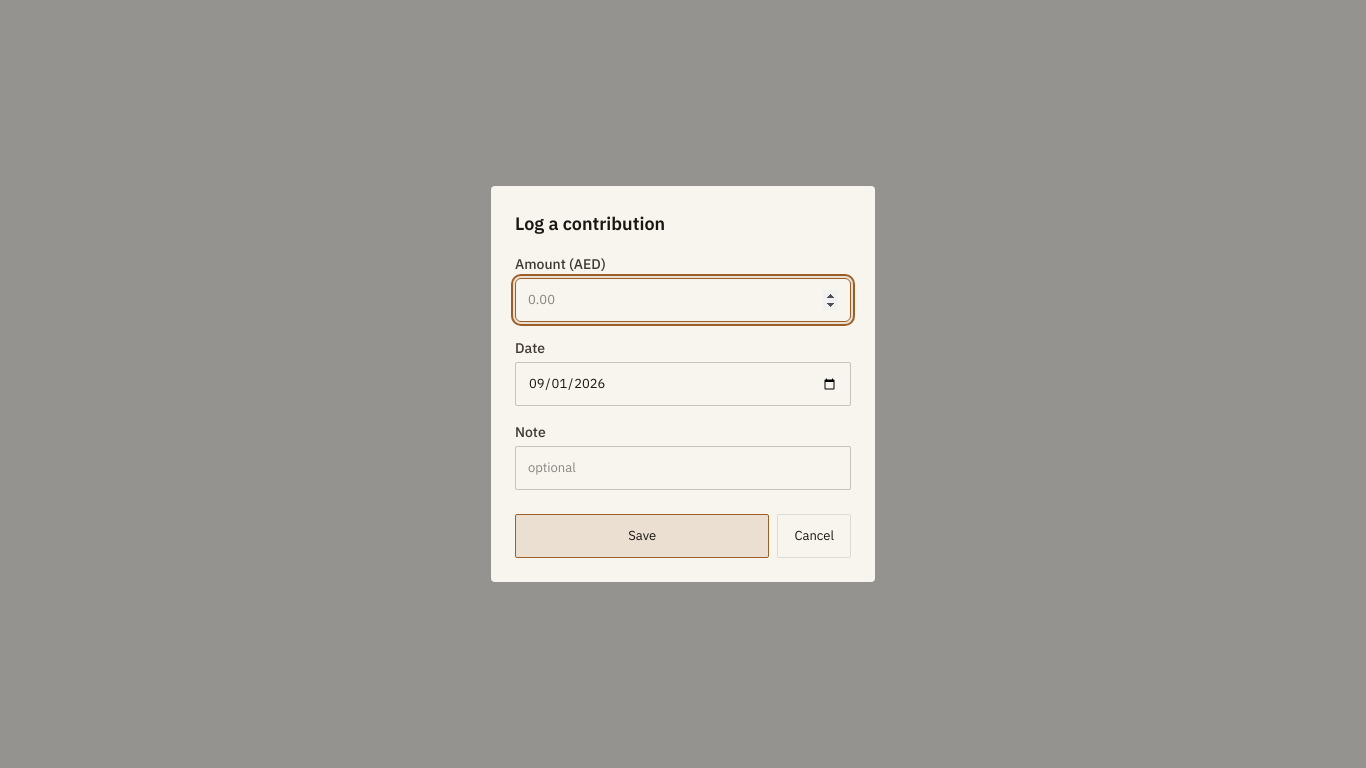
Scenario: ContributionForm action footer › submits once, preserves the payload and exact pending label, and blocks double-submit
The image size is (1366, 768).
In the number field labelled "Amount (AED)": (683, 300) left=515, top=278, right=851, bottom=322, type "25"
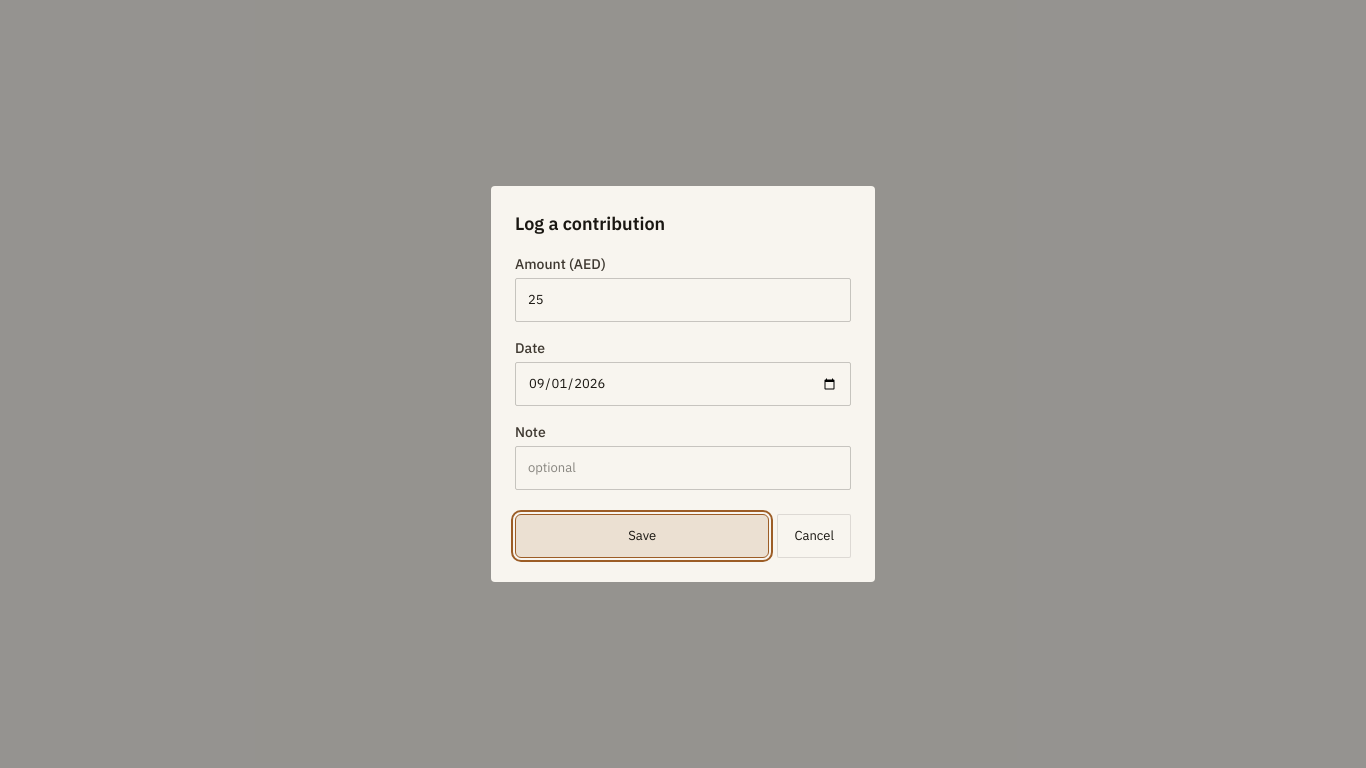
Press Enter
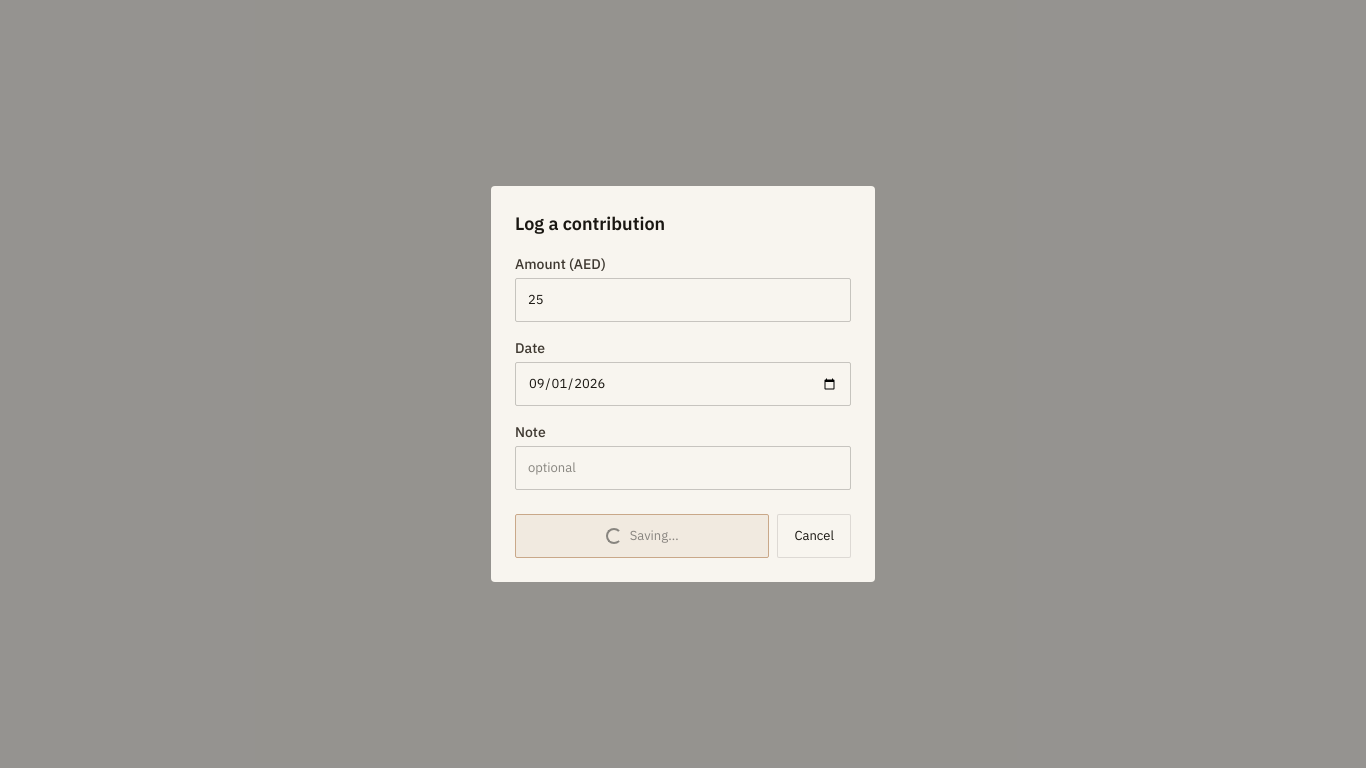
Check: the button "Saving…" is disabled
Click the button "Saving…": (642, 536) left=515, top=514, right=770, bottom=558
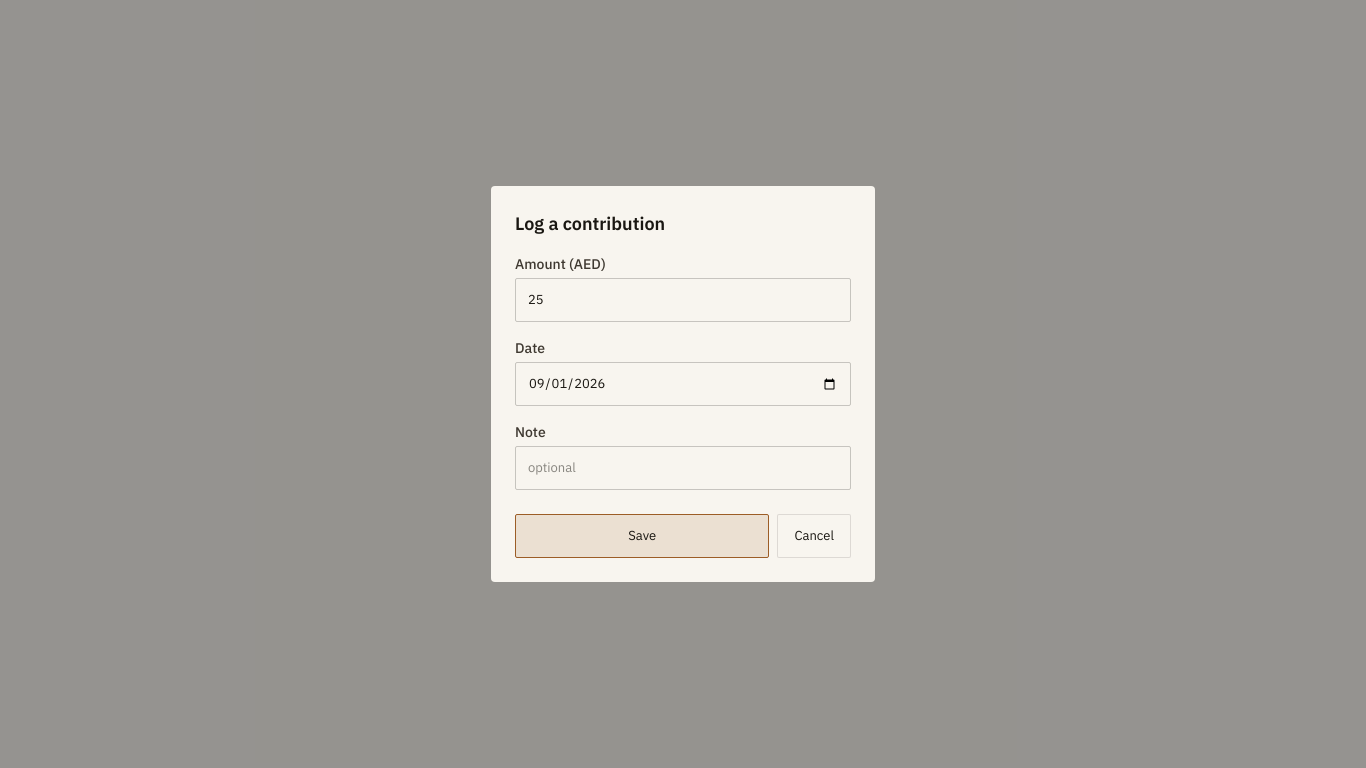
Check: the button "Save" is enabled, box left=515, top=514, right=770, bottom=558
